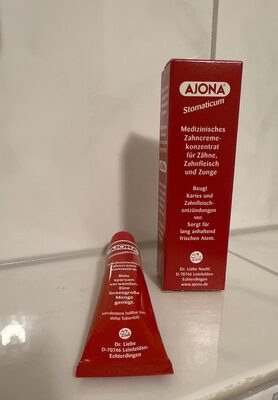Medizinisches Zahncreme-Konzentrat: (14, 20, 264, 380)
